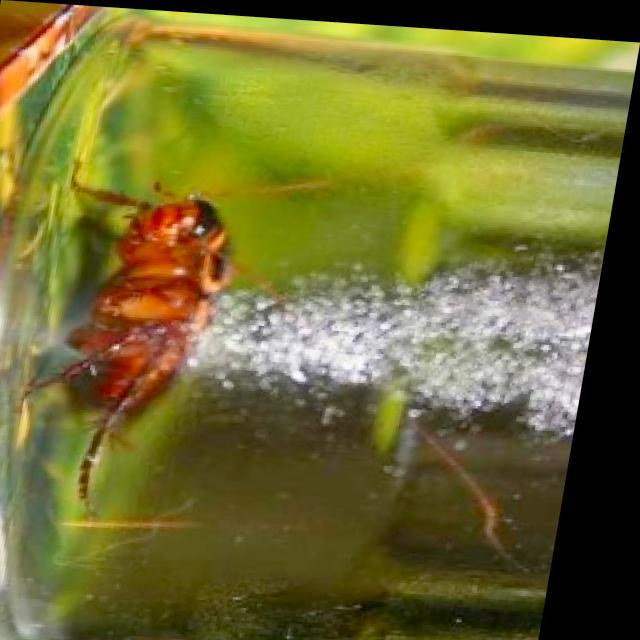cockroach: (19, 167, 284, 516)
